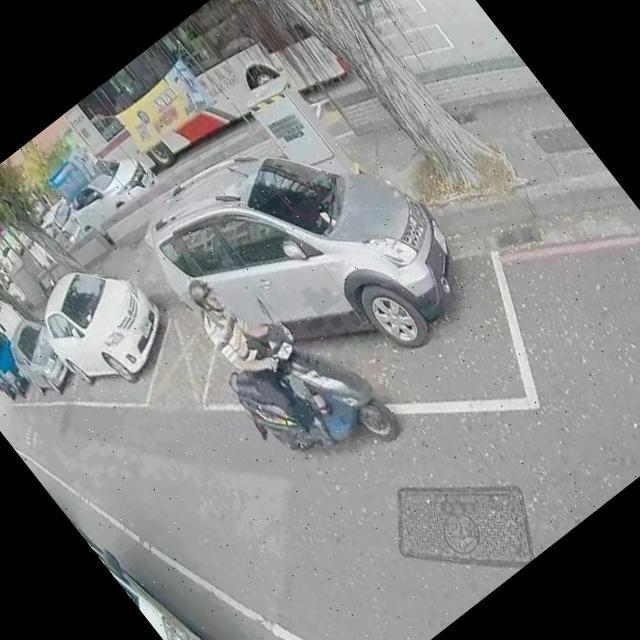person: (178, 259, 352, 459)
